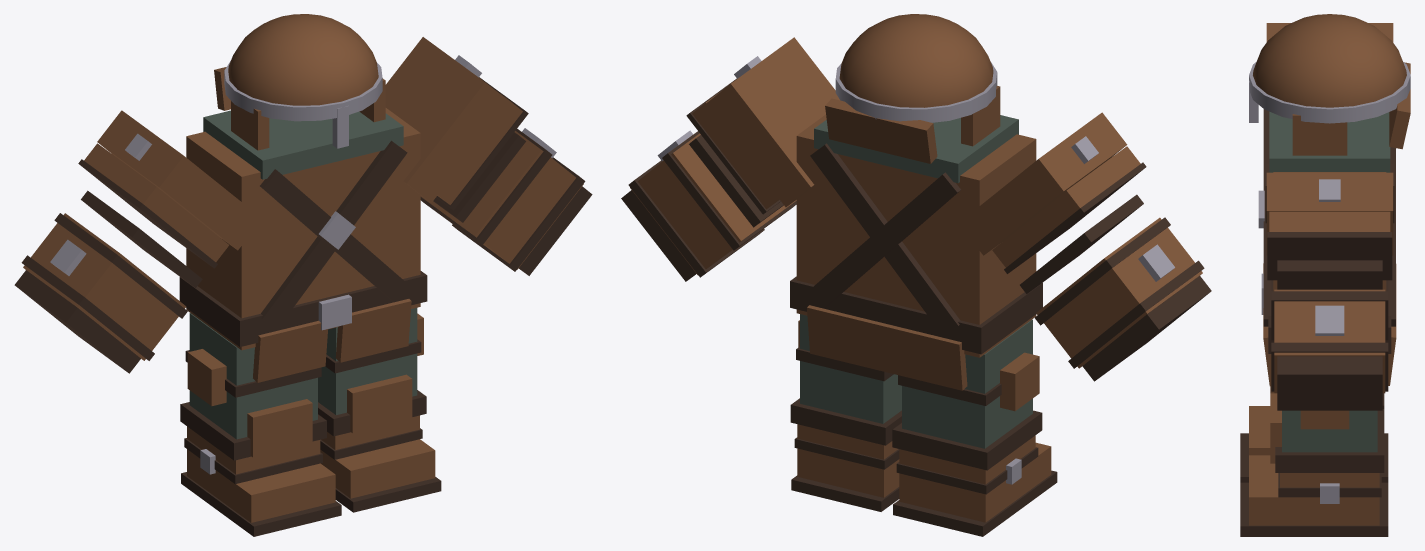
Rendered from ProwlerArmorSet.glb.
The picture shows the model from 3 angles, left to right: view 1: azimuth 30°, elevation 25°; view 2: azimuth 150°, elevation 25°; view 3: azimuth 270°, elevation 25°; orthographic projection. The views are drawn at different scales.
Parts seen in each view (by area): view 1: Right (×3), Chestplate, Left (×3), Helmet; view 2: Right (×3), Chestplate, Left (×3), Helmet; view 3: Left (×3), Helmet, Chestplate, Right (×2).
Part boxes in pixels (box(x1,y1,x2,y2)): Right (×3): box(14, 110, 341, 536); Chestplate: box(179, 108, 427, 382); Left (×3): box(318, 37, 592, 512); Helmet: box(214, 14, 385, 150); Right (×3): box(892, 112, 1211, 536); Chestplate: box(790, 114, 1042, 390); Left (×3): box(621, 37, 901, 511); Helmet: box(825, 14, 1000, 163); Left (×3): box(1240, 172, 1393, 536); Helmet: box(1249, 14, 1410, 155); Chestplate: box(1258, 109, 1396, 386); Right (×2): box(1240, 23, 1393, 482).
Bounding box in the file's own units: 6.35 × 5.3 × 1.75.
